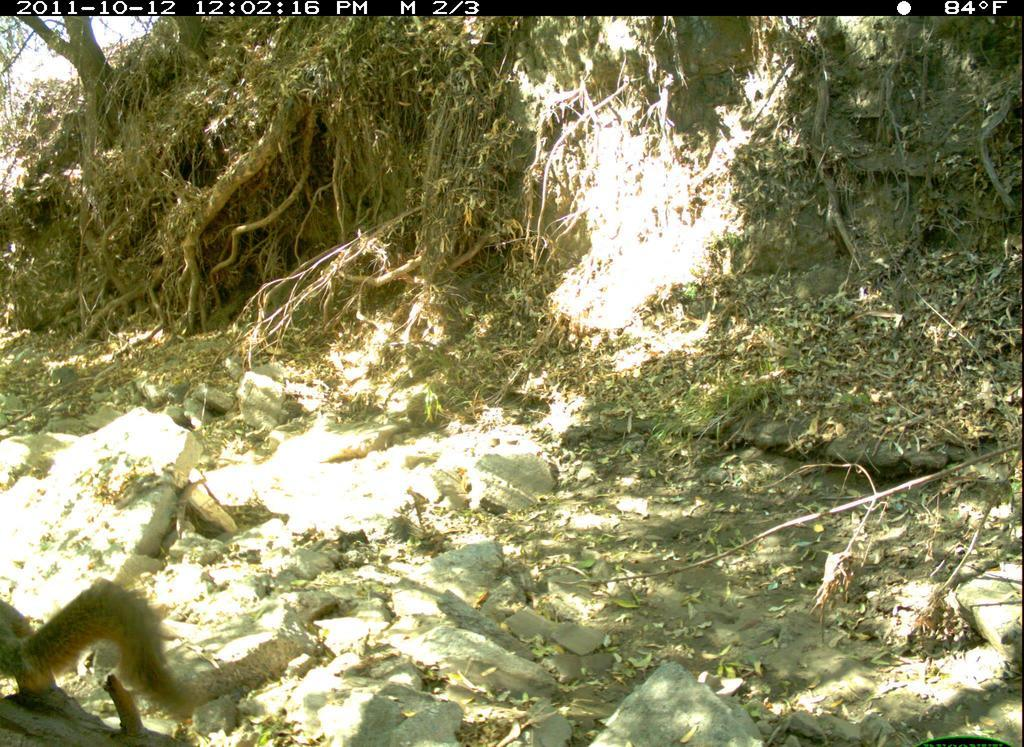squirrel: (3, 573, 205, 729)
